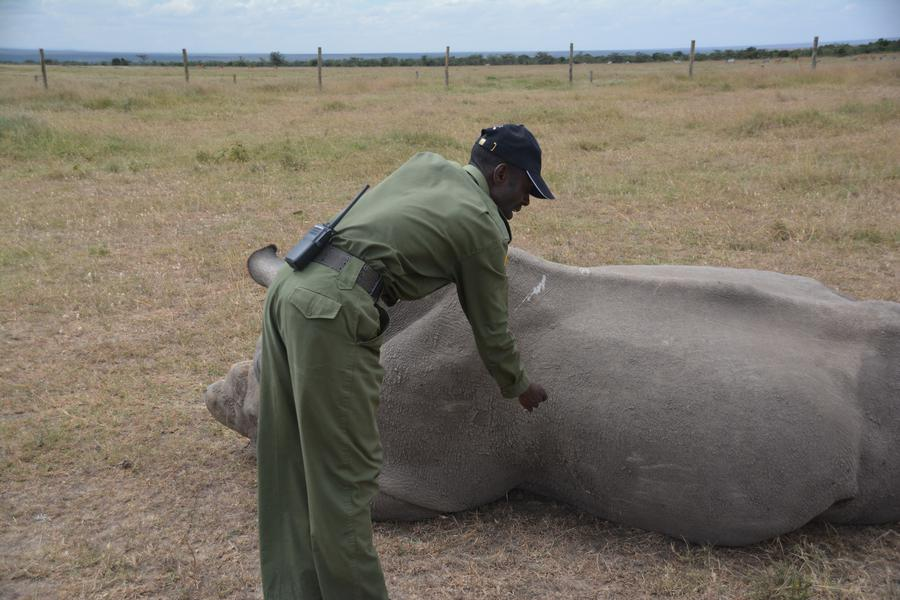rhino: (352, 274, 881, 522)
